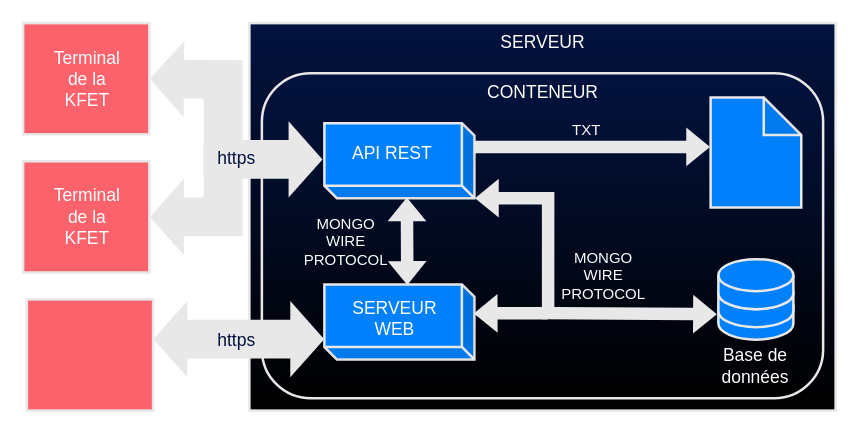
This 858x433 diagram has some shape labels left out. The shapes that lost their labels are listed below. From the top down, each one's centre as x and y in pixels, then its label:
At (755,152): "FICHIER LOG".
At (89,354): "Client WEB (BDE/Admin)".
